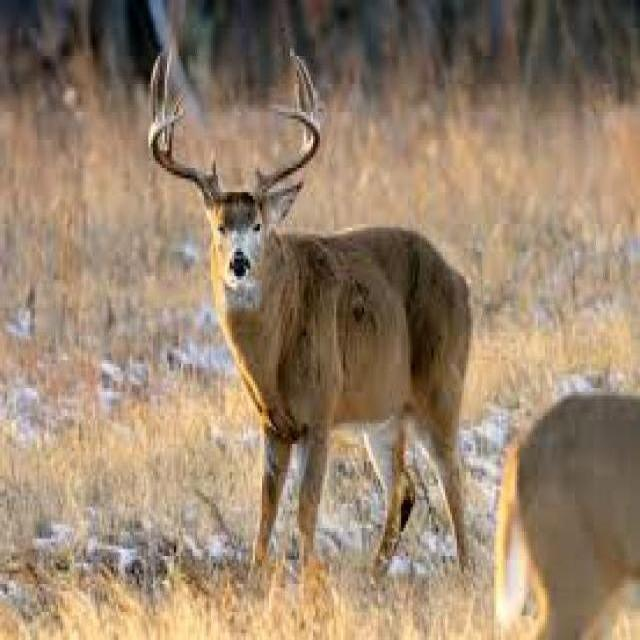deer: (147, 50, 477, 593), (491, 381, 640, 640)
